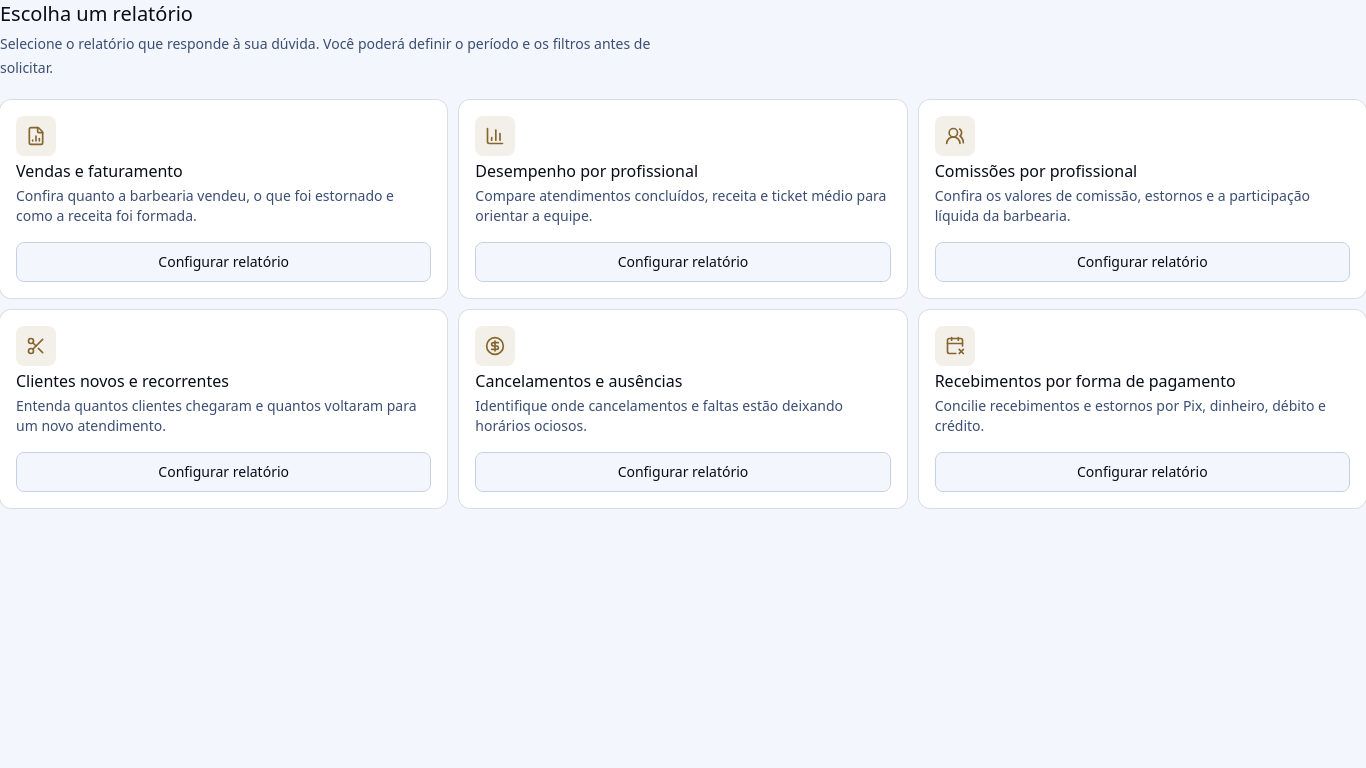
Scenario: generated reports catalog › blocks requests without a verified email
The image size is (1366, 768).
Click the button "Configurar relatório" below "Vendas e faturamento" at (224, 262), box left=16, top=242, right=431, bottom=282
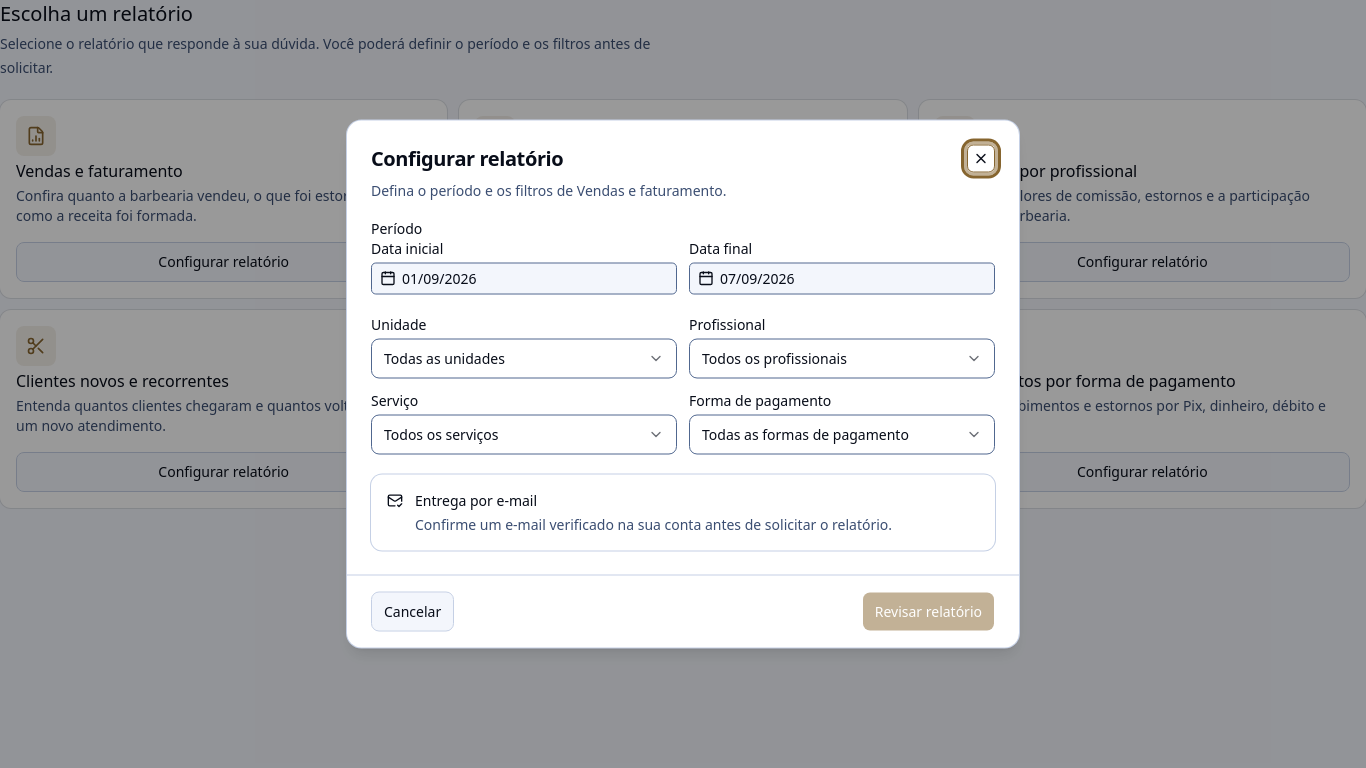
Check: the message shows "Confirme um e-mail verificado", box left=415, top=514, right=892, bottom=534
Check: the button "Revisar relatório" is disabled, box left=862, top=592, right=995, bottom=632
